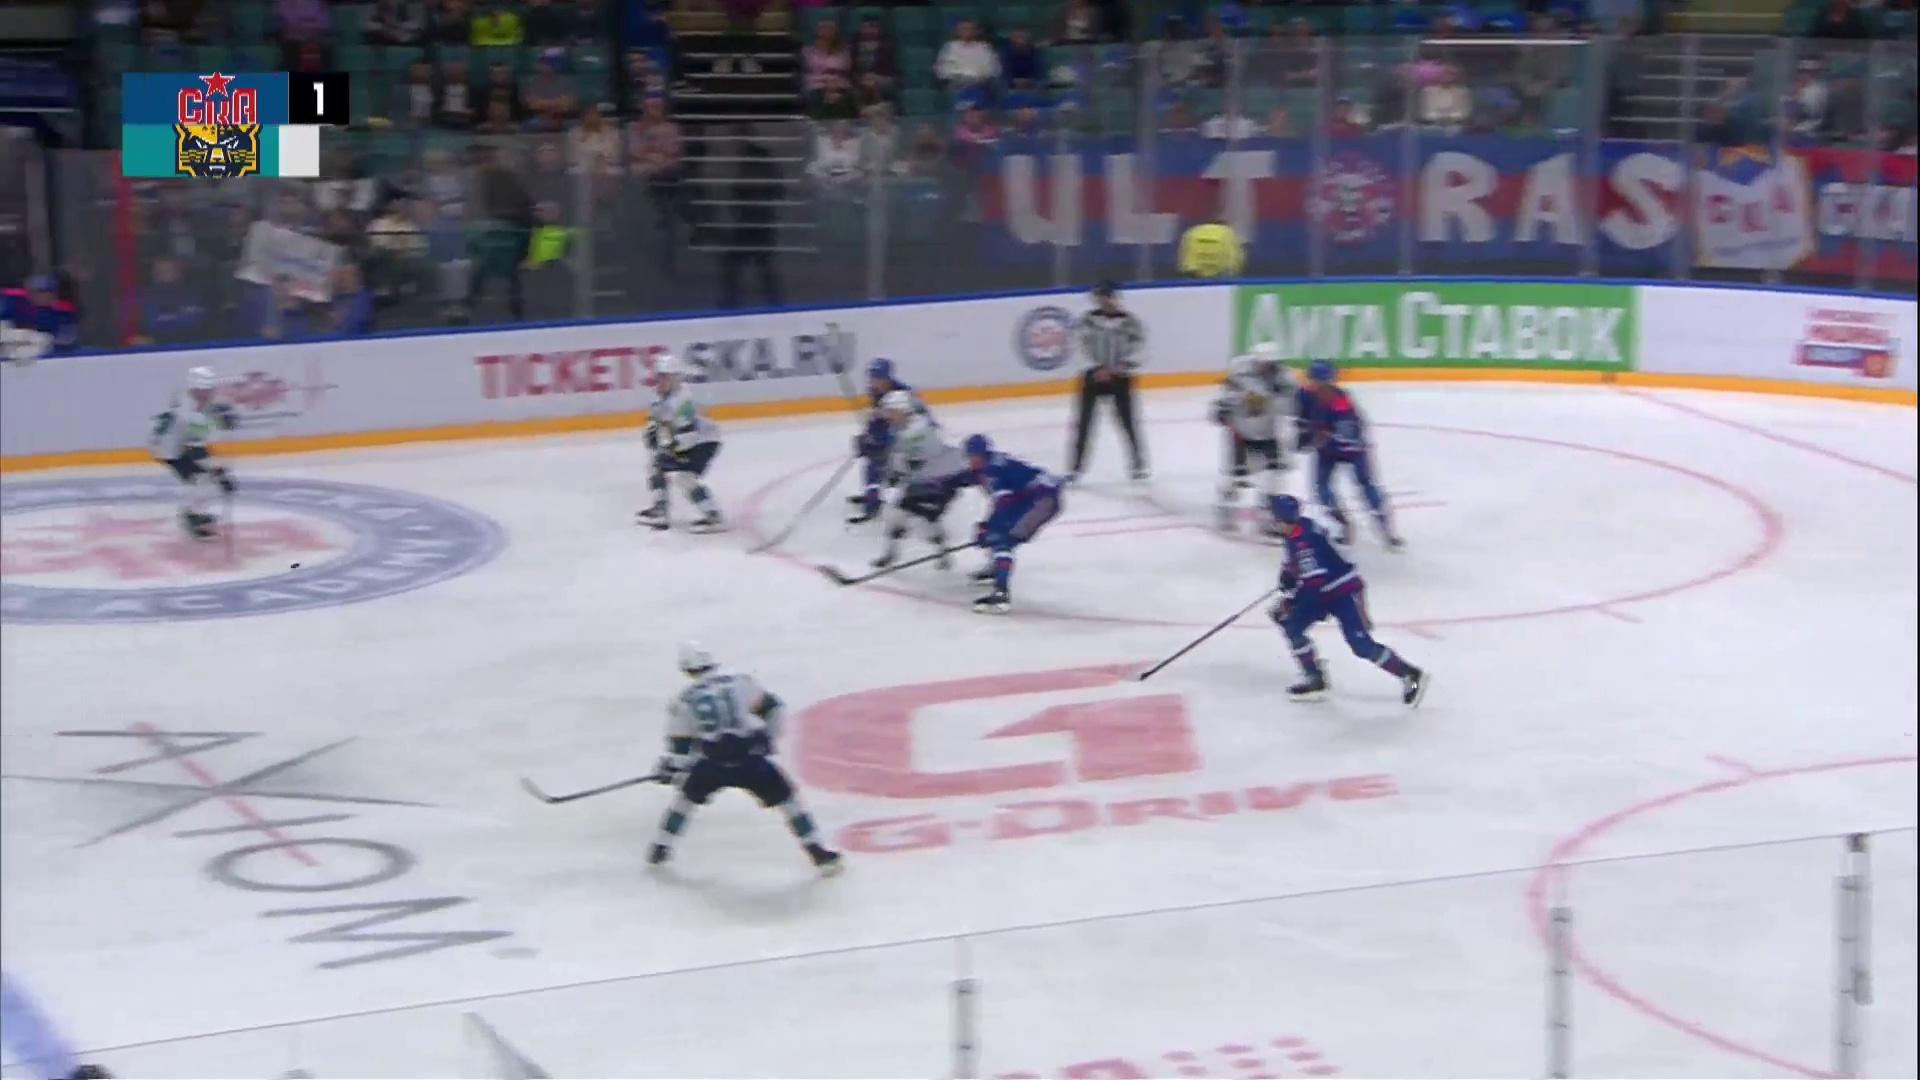ball: (290, 562, 302, 570)
